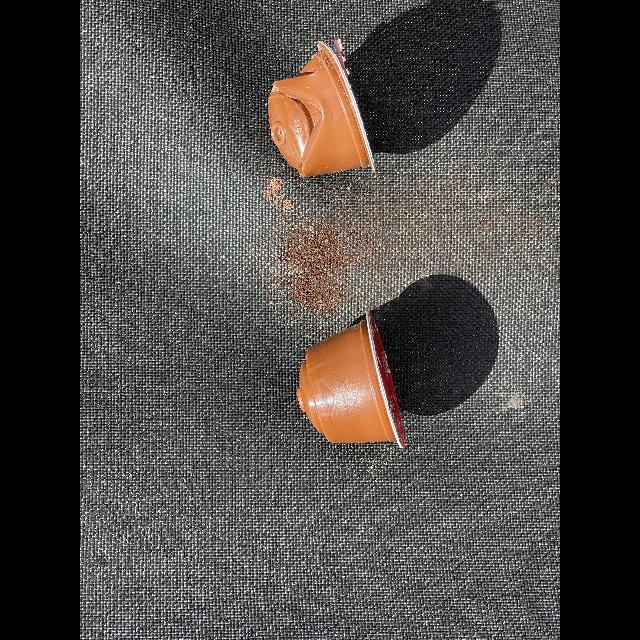damaged_capsule: (254, 30, 390, 182)
intact_capsule: (288, 296, 416, 462)
